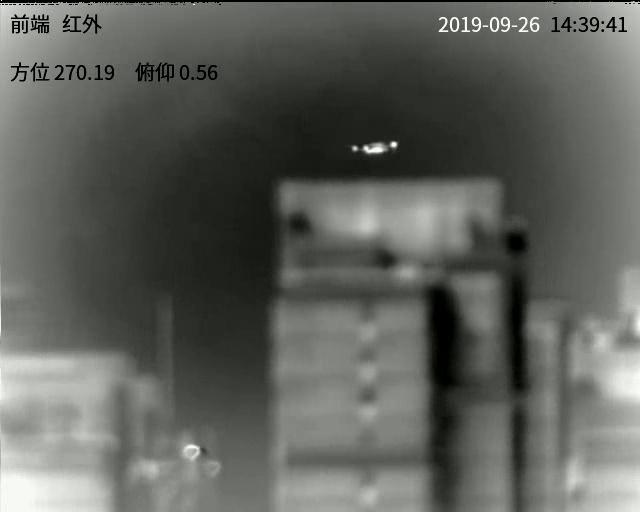DRONE: (348, 137, 399, 157)
